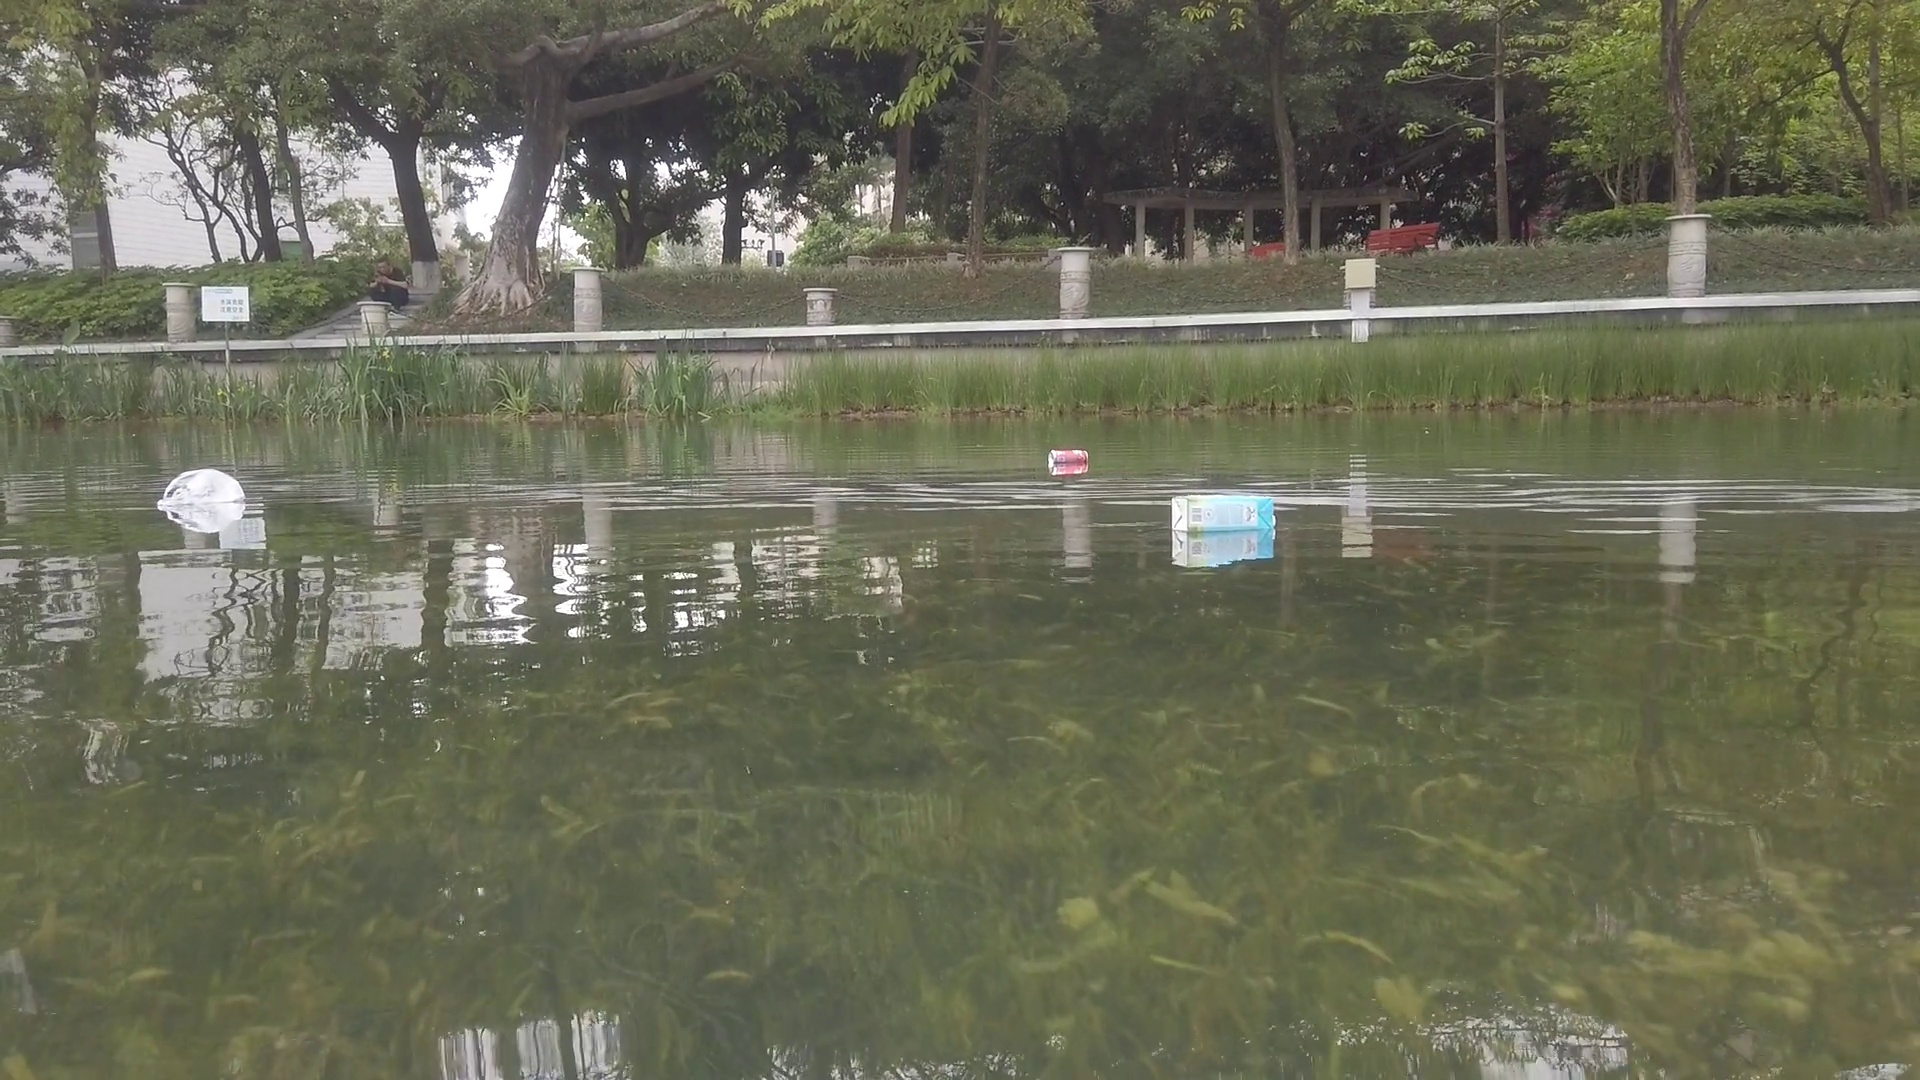bottle: (1048, 447, 1088, 465)
carton: (1174, 495, 1276, 530)
plastic: (162, 469, 244, 505)
